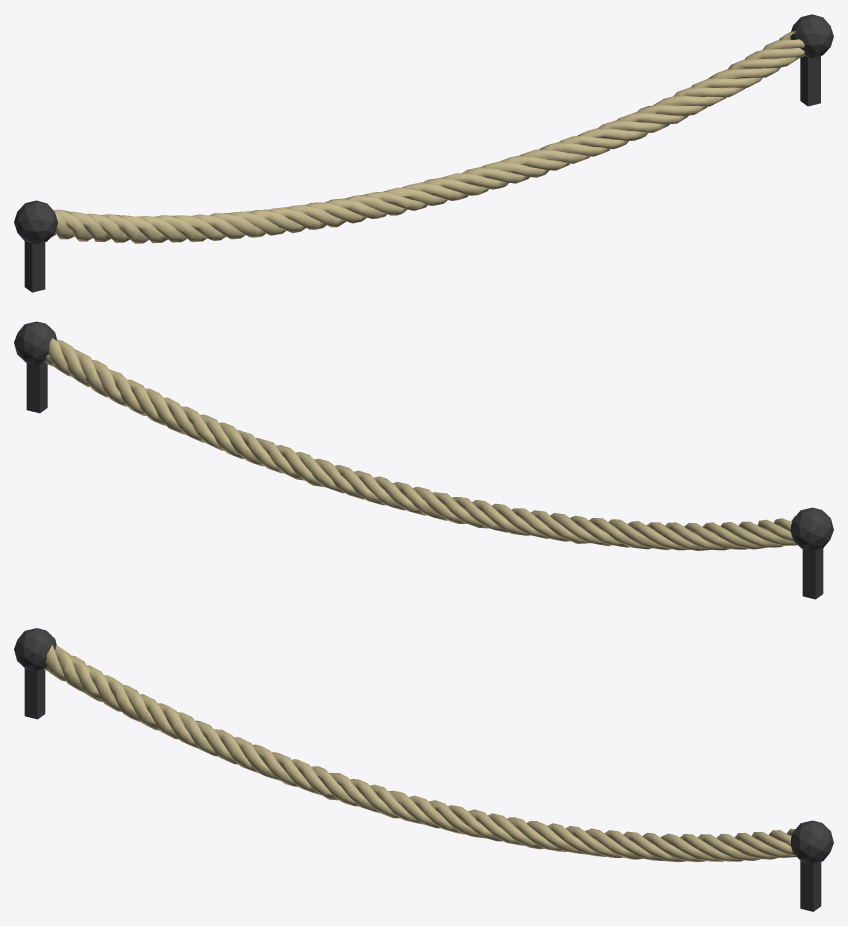
File: Raven_Rope.fbx
The picture shows the model from 3 angles, top to bottom: view 1: azimuth 30°, elevation 25°; view 2: azimuth 150°, elevation 25°; view 3: azimuth 330°, elevation 25°; orthographic projection.
Visible parts, largest first — view 1: Circle.003, Icosphere, Icosphere.001, Cube, Cube.001; view 2: Circle.003, Icosphere, Icosphere.001, Cube, Cube.001; view 3: Circle.003, Icosphere.001, Icosphere, Cube, Cube.001.
Boxes of the visible parts, <box> form: Circle.003: <box>51,31,805,243</box>; Icosphere: <box>14,200,58,244</box>; Icosphere.001: <box>790,14,833,58</box>; Cube: <box>24,241,45,292</box>; Cube.001: <box>800,56,820,106</box>; Circle.003: <box>43,338,797,550</box>; Icosphere: <box>790,507,833,550</box>; Icosphere.001: <box>14,321,56,364</box>; Cube: <box>802,548,823,599</box>; Cube.001: <box>26,362,47,413</box>; Circle.003: <box>44,645,796,862</box>; Icosphere.001: <box>791,820,833,863</box>; Icosphere: <box>14,628,56,671</box>; Cube: <box>24,668,45,719</box>; Cube.001: <box>800,861,821,911</box>.
Size of the model in its own units: 671 by 78.59 by 31.67.
